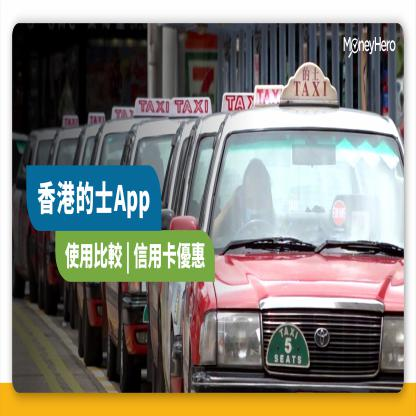taxi: (184, 59, 403, 391)
